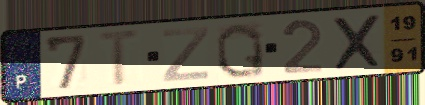2: (279, 17, 327, 76)
7: (42, 33, 91, 92)
Q: (214, 20, 268, 80)
T: (95, 27, 145, 90)
X: (329, 12, 385, 73)
Z: (160, 25, 211, 84)
